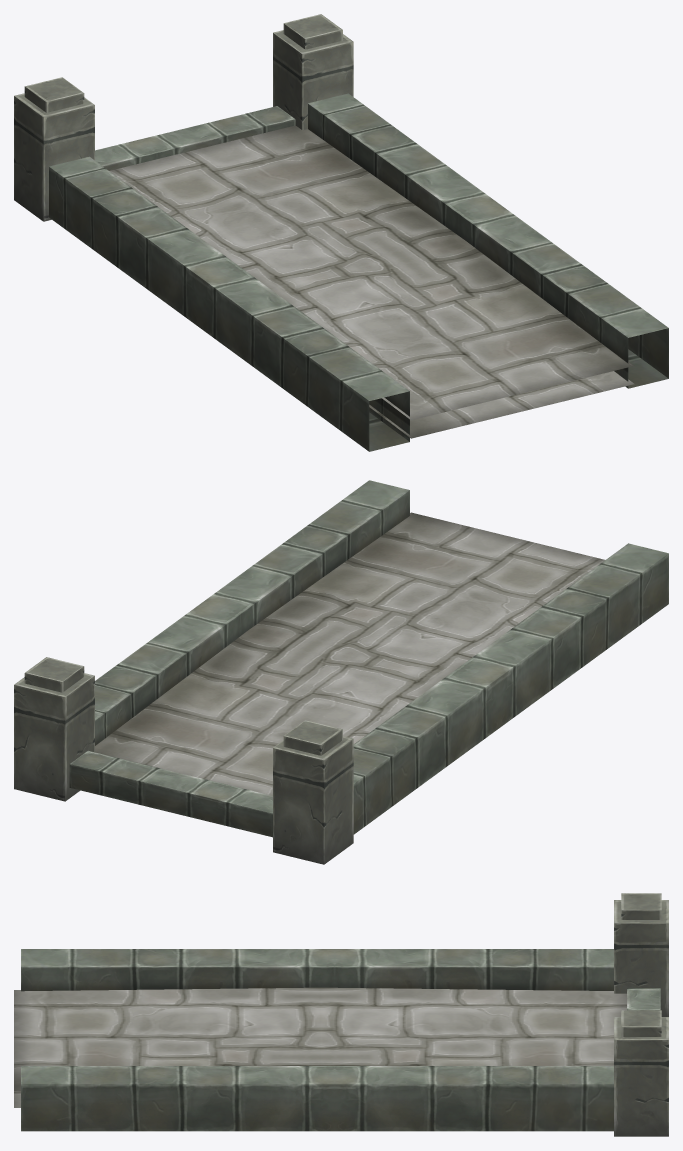
File: bridge_04b_tile_02.fbx
3 views of the same model, one above another, from view 1: azimuth 30°, elevation 25°; view 2: azimuth 150°, elevation 25°; view 3: azimuth 270°, elevation 25° (orthographic). The views are drawn at different scales.
Parts seen in each view (by area): view 1: bridge_04b_tile_02; view 2: bridge_04b_tile_02; view 3: bridge_04b_tile_02.
Part boxes in pixels (x1,y1,x2,y2): bridge_04b_tile_02: (14,14,668,451); bridge_04b_tile_02: (14,480,668,864); bridge_04b_tile_02: (14,893,668,1136).
Size of the model in its own units: 2.88 by 1.02 by 5.69.
